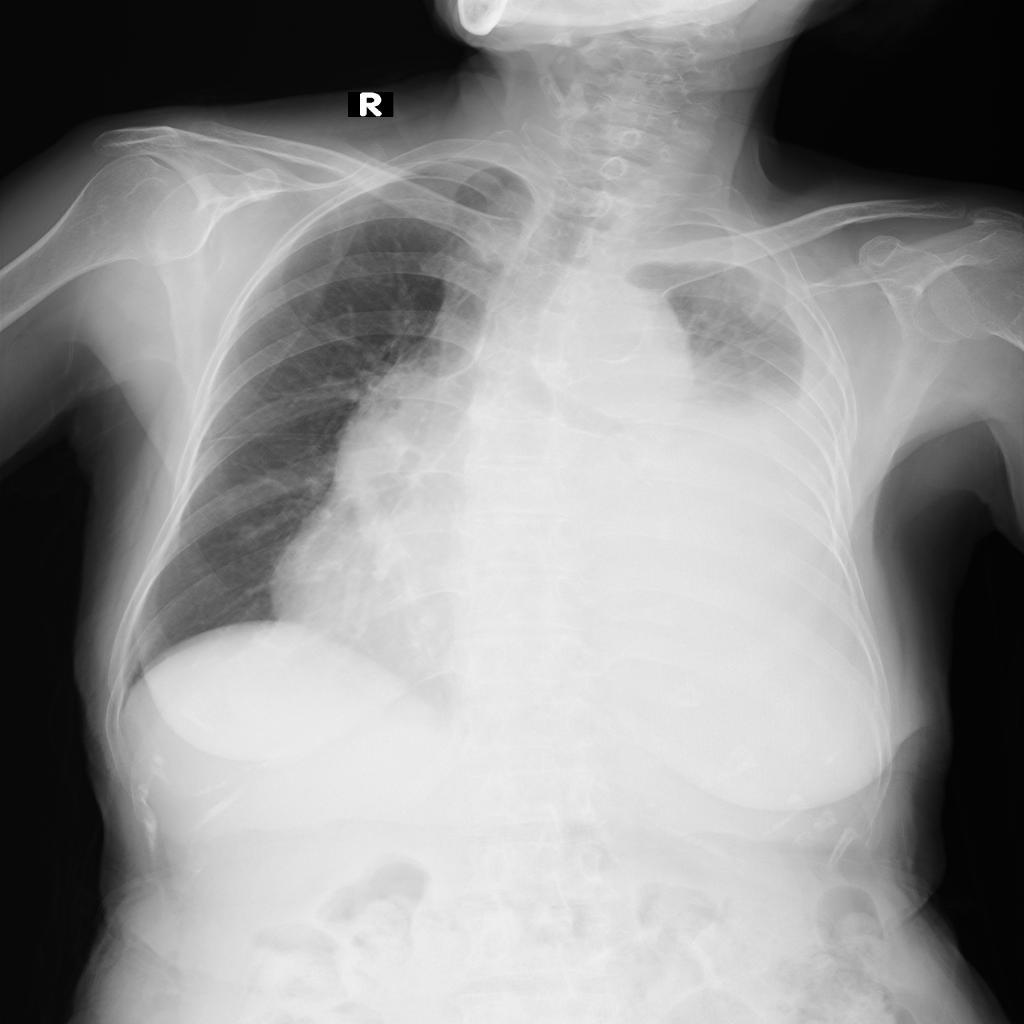Nodule: (341, 356, 468, 528)
